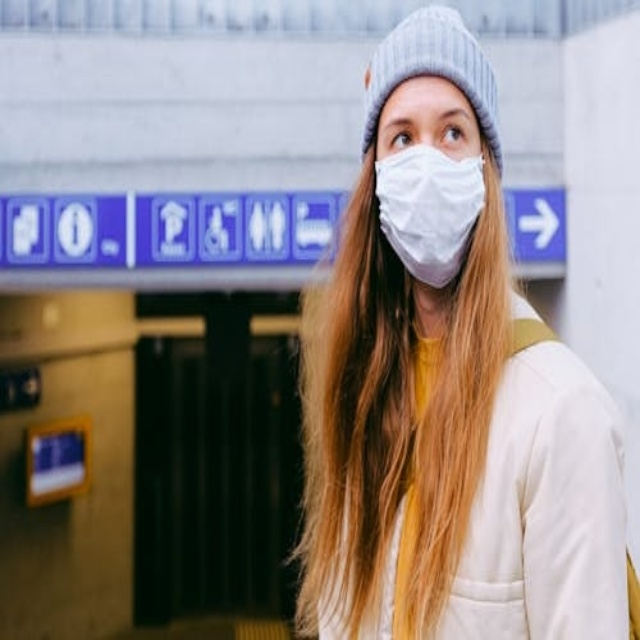Mascara: (374, 143, 488, 285)
Sin_gafas: (440, 124, 465, 144), (390, 130, 414, 150)
